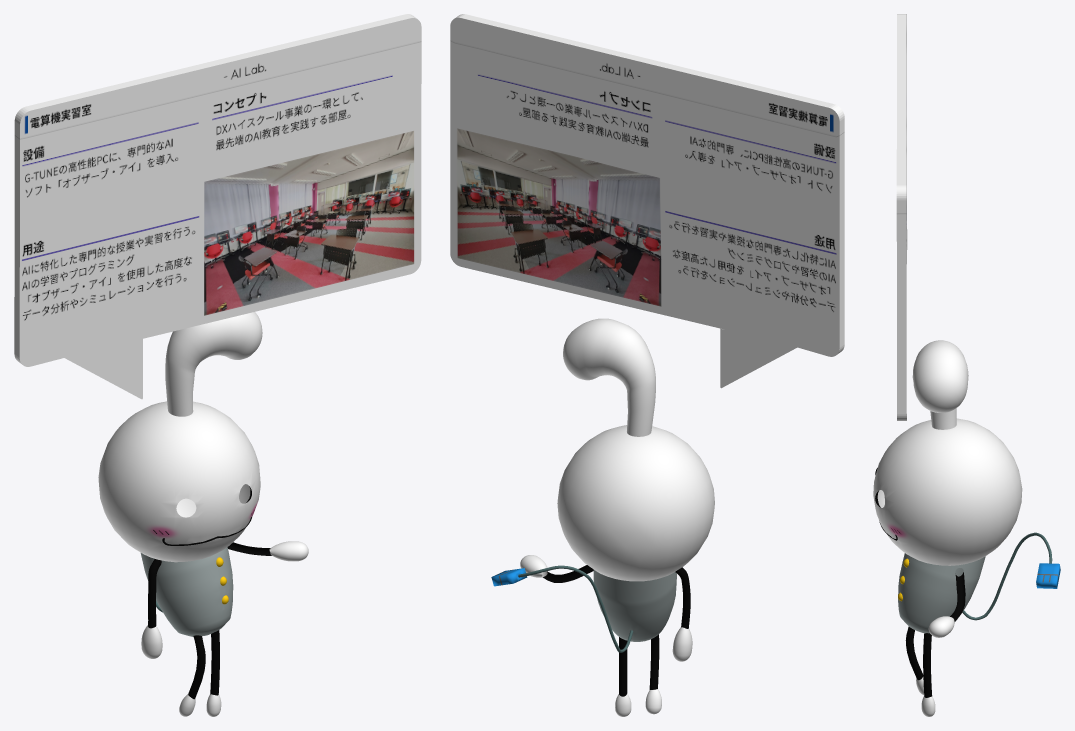
3 views of the same model, side by side, from view 1: azimuth 30°, elevation 25°; view 2: azimuth 150°, elevation 25°; view 3: azimuth 270°, elevation 25° (orthographic). The views are drawn at different scales.
Visible parts, largest first — view 1: 吹き出し１, 頭, 胴, 触覚, 吹き出し２, 左拳; view 2: 吹き出し１, 頭, 触覚, 胴, 吹き出し２, 尻尾; view 3: 頭, 吹き出し１, 胴, 触覚, マウス, 尻尾, 左脚, 左拳, 右脚, 左腕.
Part boxes in pixels (x1,y1,x2,y2): 吹き出し１: [14, 14, 421, 366]; 頭: [98, 401, 260, 562]; 胴: [140, 547, 233, 636]; 触覚: [165, 312, 262, 416]; 吹き出し２: [64, 339, 142, 399]; 左拳: [269, 541, 308, 561]; 吹き出し１: [450, 14, 844, 356]; 頭: [557, 425, 714, 581]; 触覚: [563, 318, 655, 436]; 胴: [593, 570, 676, 641]; 吹き出し２: [720, 328, 797, 388]; 尻尾: [518, 565, 633, 652]; 頭: [873, 418, 1022, 565]; 吹き出し１: [896, 14, 907, 420]; 胴: [898, 553, 985, 633]; 触覚: [912, 340, 968, 429]; マウス: [1036, 563, 1060, 588]; 尻尾: [962, 532, 1052, 620]; 左脚: [923, 633, 932, 697]; 左拳: [928, 616, 954, 637]; 右脚: [905, 626, 923, 680]; 左腕: [950, 572, 965, 621].
Bounding box in the file's own units: 14.43 × 22.91 × 6.36.
12 materials, 2 textured.
